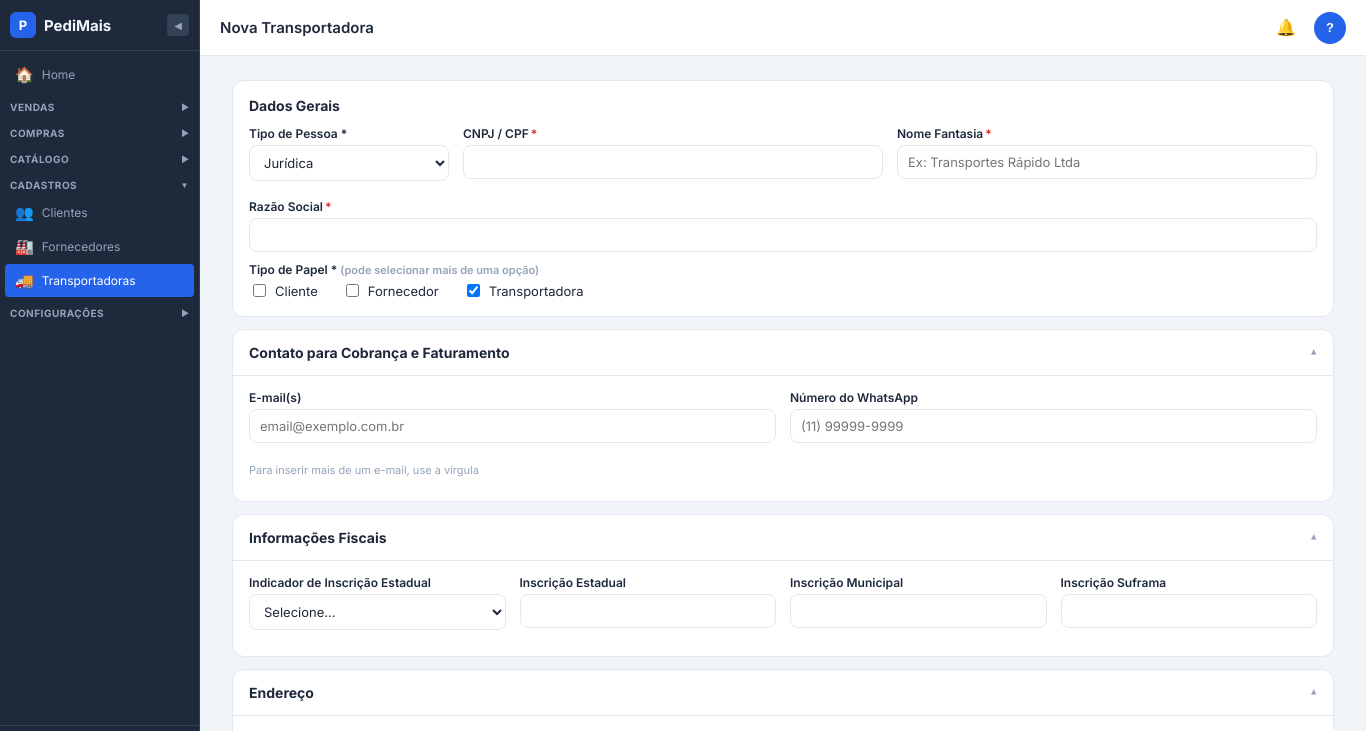
Test: TransportadoraFormView › masks the documento as CNPJ while typing (tipoPessoa defaults to JURIDICA)
This screenshot has width=1366, height=731.
Type "11222333000144" into the field with test id "documento".
click(673, 162); type("11222333000144")  # box [463,145,883,179]
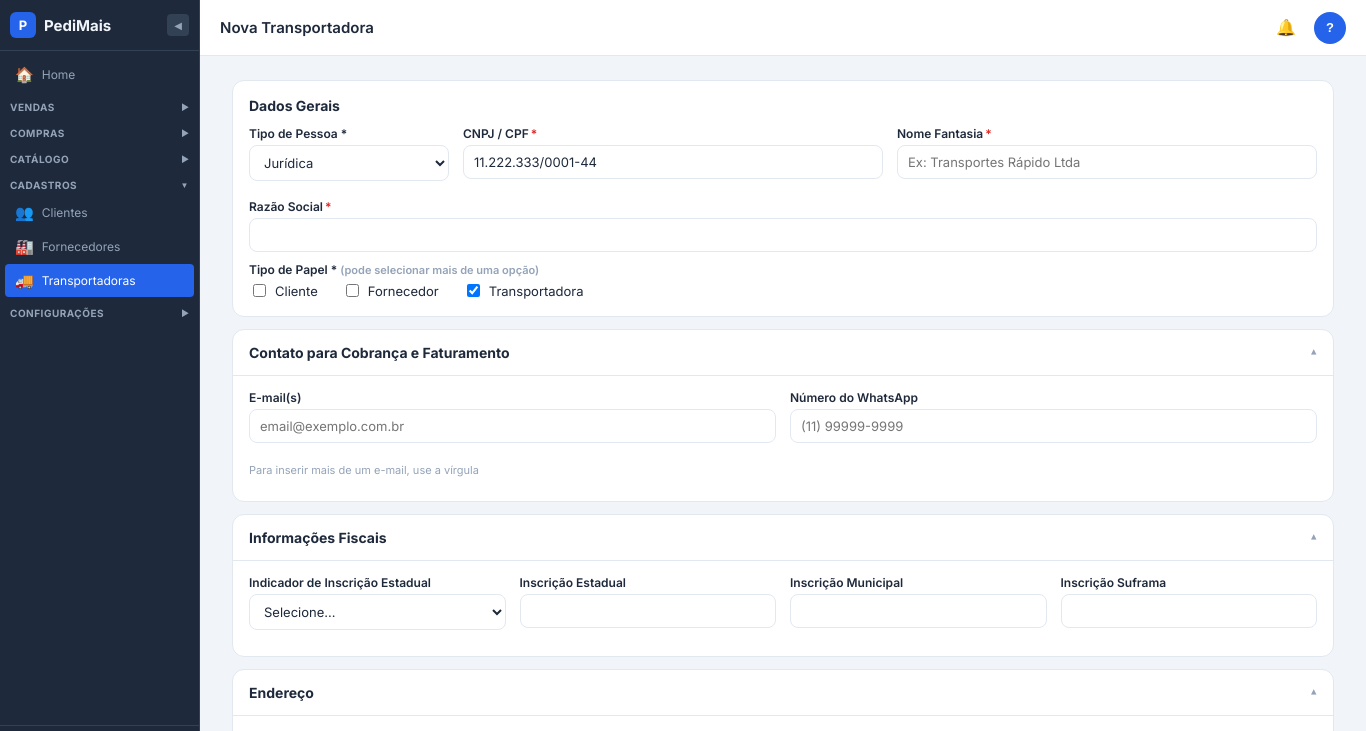
expect the field with test id "documento" holds "11.222.333/0001-44": met, box [463,145,883,179]
